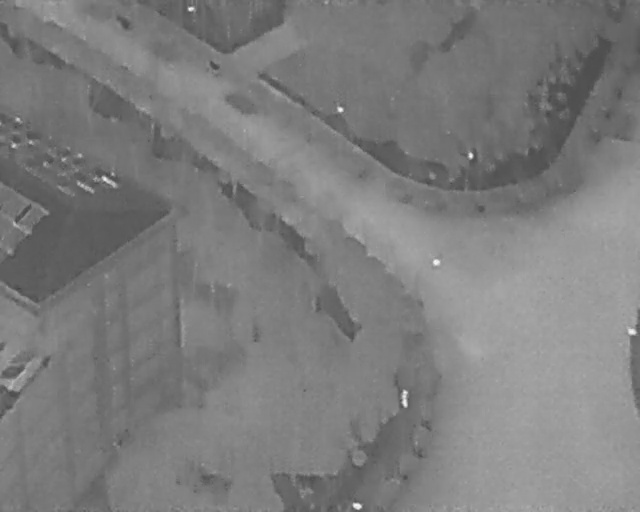Person: (400, 387, 409, 409)
